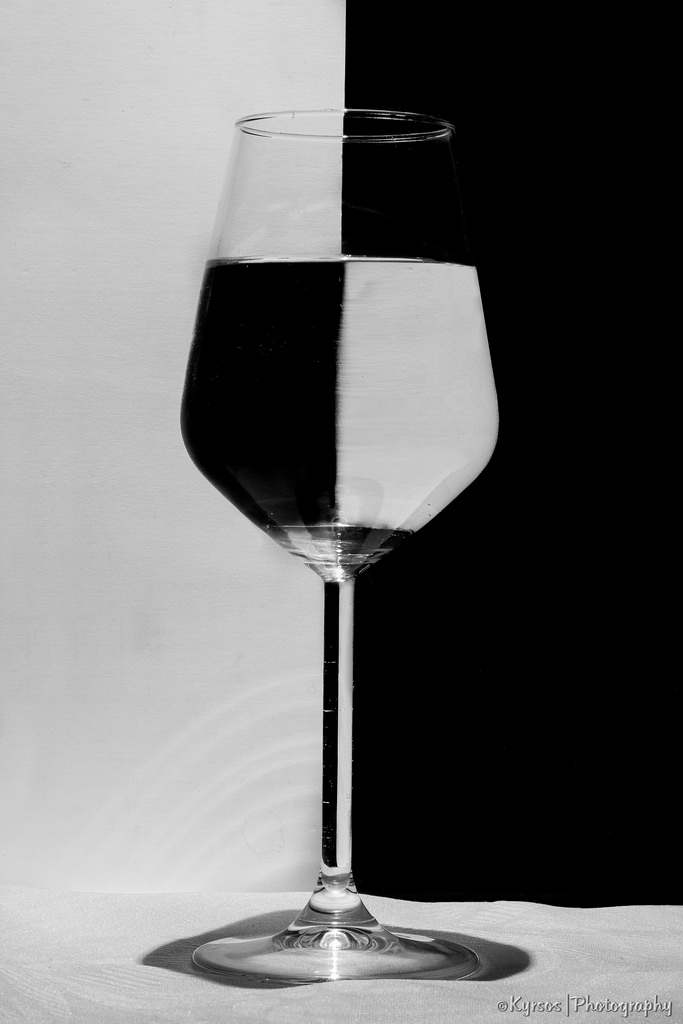glass of water: (172, 65, 535, 987)
